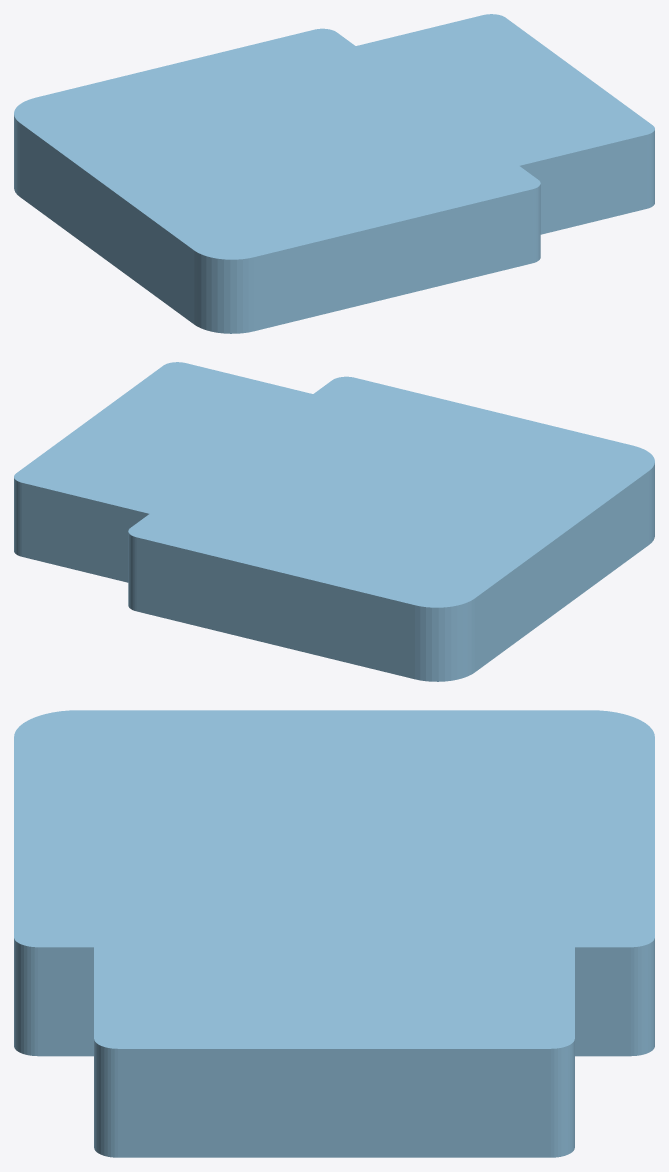
Rendered from chassis.dae.
3 views of the same model, one above another, from view 1: azimuth 30°, elevation 25°; view 2: azimuth 150°, elevation 25°; view 3: azimuth 270°, elevation 25° (orthographic). The views are drawn at different scales.
Visible parts, largest first — view 1: 5bd18be84eef51152d63dc3f; view 2: 5bd18be84eef51152d63dc3f; view 3: 5bd18be84eef51152d63dc3f.
Boxes of the visible parts, x1,y1,x2,y2 form: 5bd18be84eef51152d63dc3f: (14, 14, 654, 333); 5bd18be84eef51152d63dc3f: (14, 362, 654, 681); 5bd18be84eef51152d63dc3f: (14, 710, 654, 1157).
Bounding box in the file's own units: 0.1 × 0.08 × 0.015.
